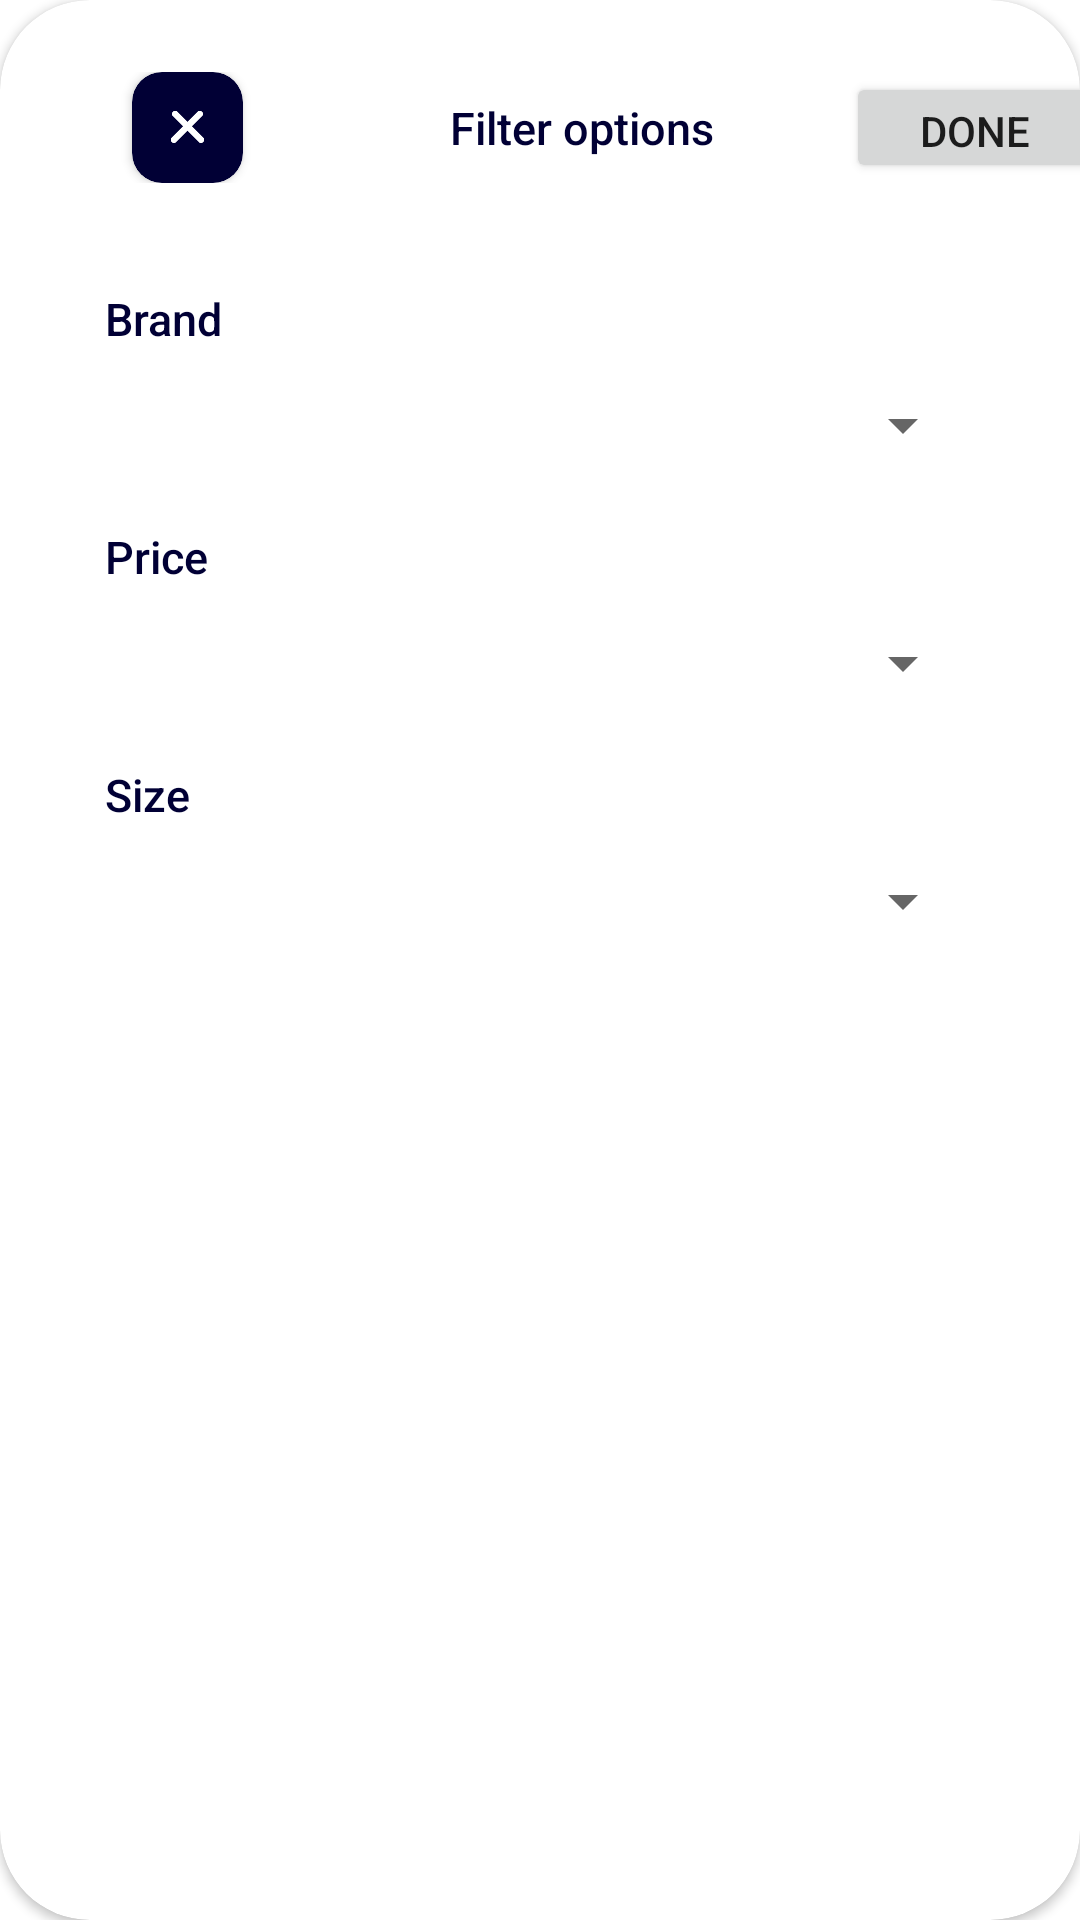

Icon bounding boxes for this 1080x1920 phone screenshot, format (x1, y1, x2, y2):
close: (171, 111, 204, 143)
